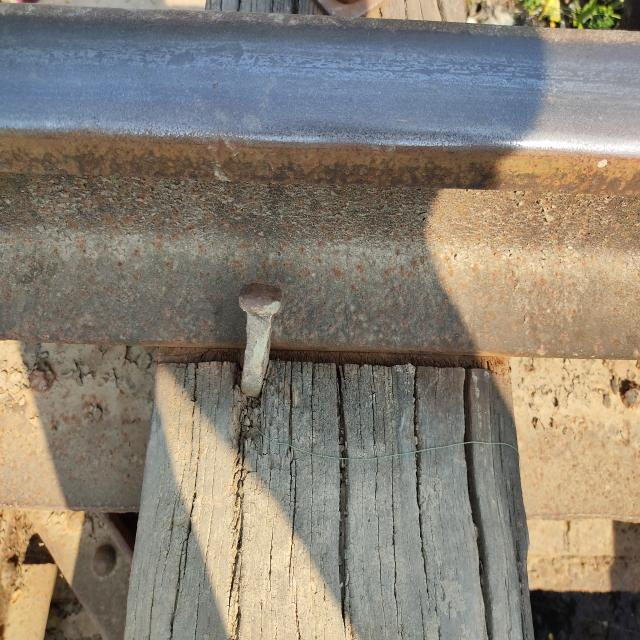Faults: (228, 273, 278, 399)
